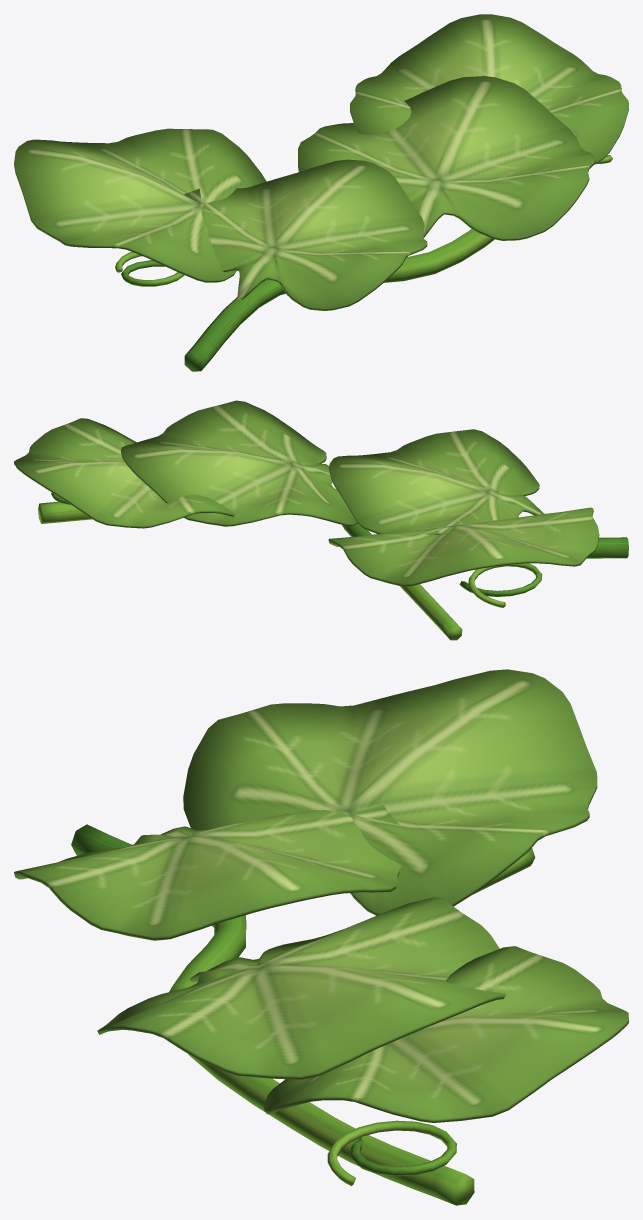
Rendered from NP_Melon_Young.fbx.
3 views of the same model, one above another, from view 1: azimuth 30°, elevation 25°; view 2: azimuth 150°, elevation 25°; view 3: azimuth 270°, elevation 25° (orthographic). The views are drawn at different scales.
Visible parts, largest first — view 1: NP_Melon_Young; view 2: NP_Melon_Young; view 3: NP_Melon_Young.
Boxes of the visible parts, box(x1,y1,x2,y2) form: NP_Melon_Young: box(14, 14, 628, 371); NP_Melon_Young: box(14, 400, 628, 640); NP_Melon_Young: box(14, 669, 628, 1205).
Bounding box in the file's own units: 52.24 × 9.68 × 32.68.
